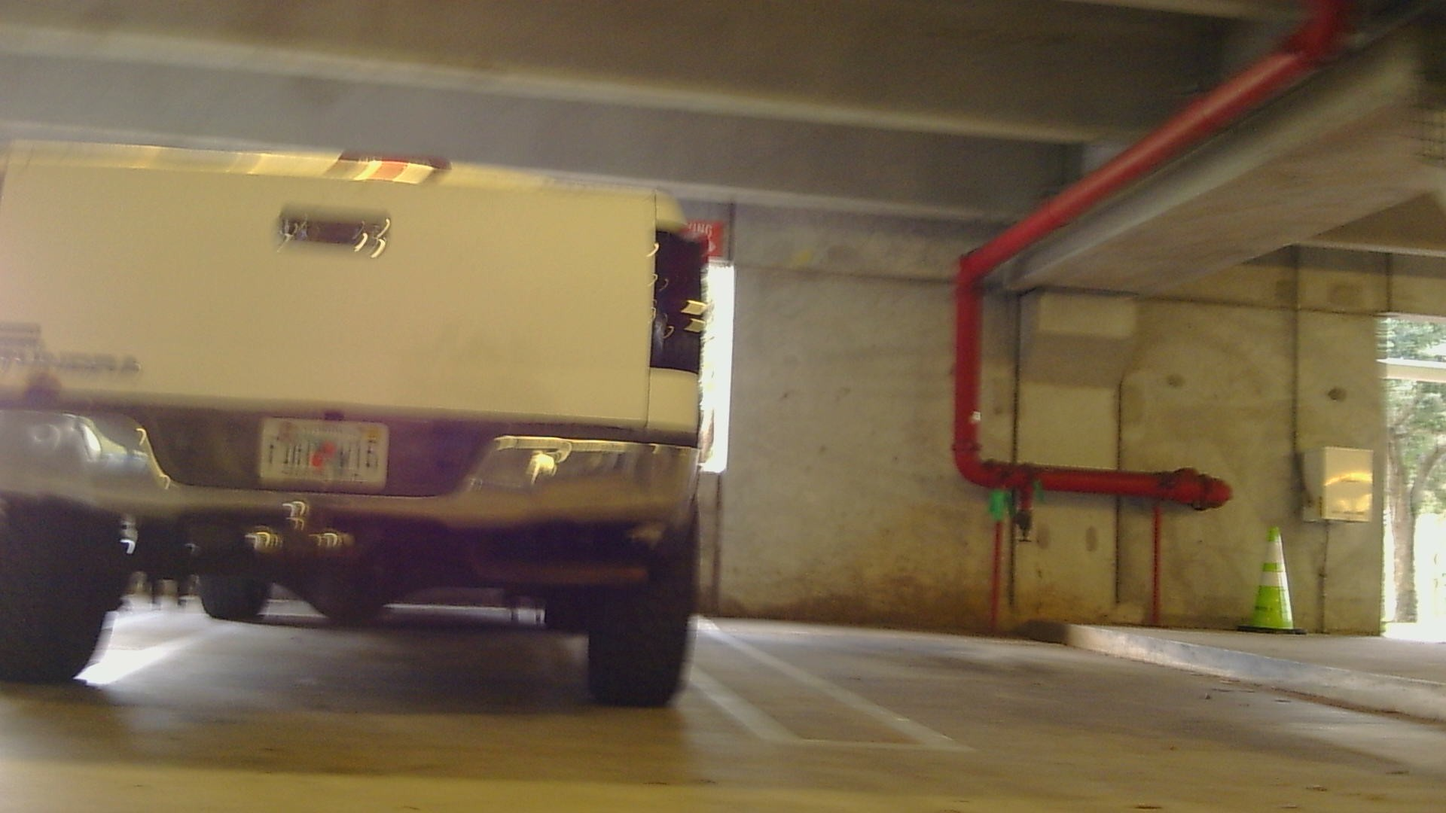empty_spot: (688, 524, 1446, 761)
occupied_spot: (0, 116, 716, 705)
